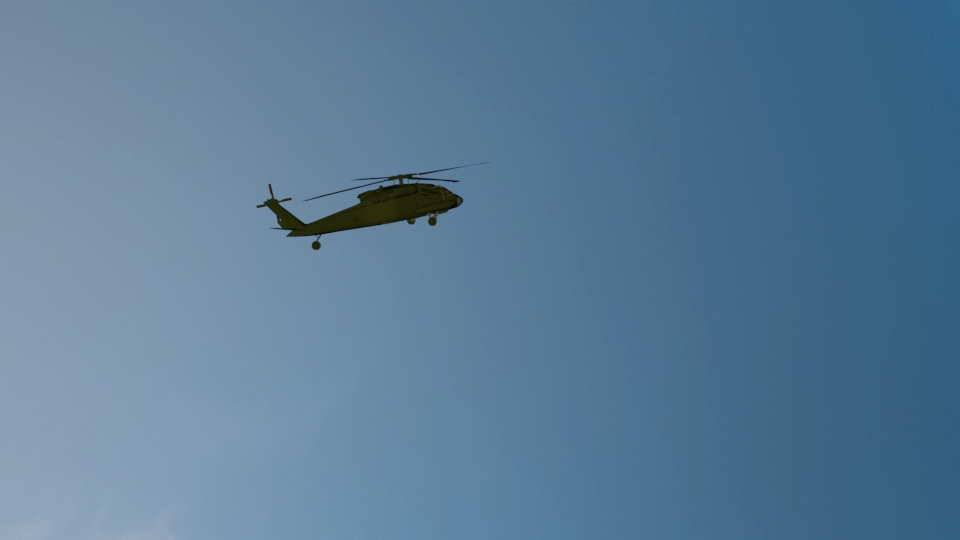heli: (258, 158, 493, 252)
